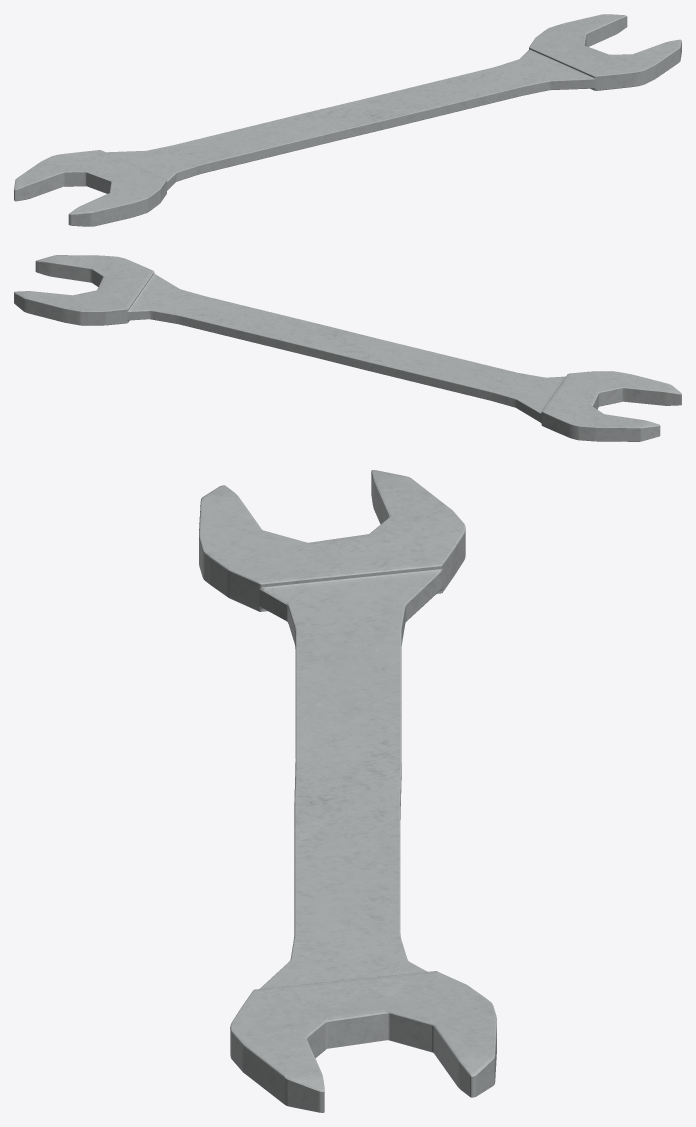
File: wrench.fbx
3 views of the same model, one above another, from view 1: azimuth 30°, elevation 25°; view 2: azimuth 150°, elevation 25°; view 3: azimuth 270°, elevation 25° (orthographic). The views are drawn at different scales.
Parts seen in each view (by area): view 1: Cube; view 2: Cube; view 3: Cube.
Part boxes in pixels (x1,y1,x2,y2): Cube: (14, 14, 681, 226); Cube: (14, 255, 681, 441); Cube: (199, 470, 496, 1112).
Size of the model in its own units: 26.03 by 0.5733 by 5.28.
Materials: 1 (1 with a texture image).
